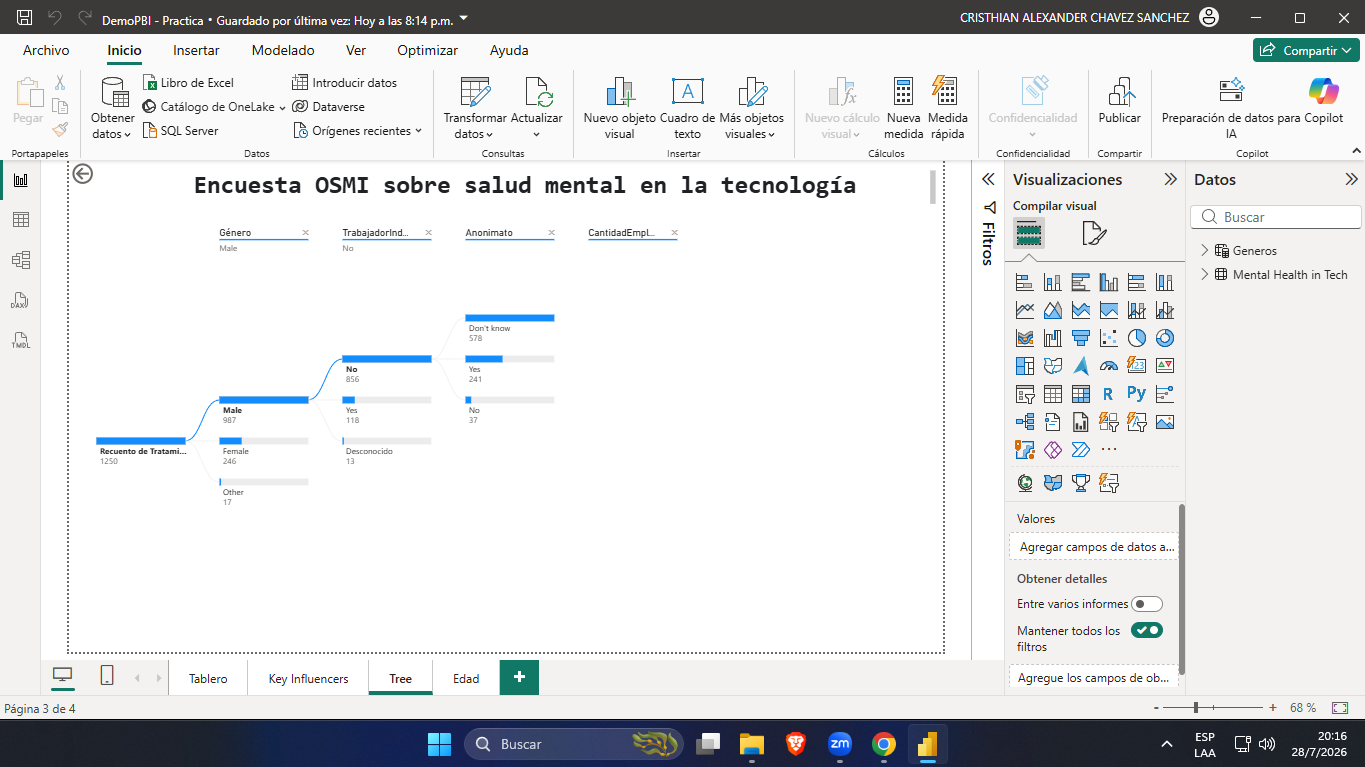

What the dashboard file says about the page in this screenshot:
{"tool":"powerbi","page":{"name":"Tree","canvas":[1280,720],"ordinal":2},"visuals":[{"type":"decompositionTreeVisual","fields":{"Analyze":["CountNonNull(Mental Health in Tech.Tratamiento)"],"ExplainBy":["Mental Health in Tech.Género","Mental Health in Tech.TrabajadorIndependiente","Mental Health in Tech.Anonimato","Mental Health in Tech.CantidadEmpleados","Mental Health in Tech.BeneficiosSaludMental","Mental Health in Tech.BusquedaAyuda","Mental Health in Tech.CompanerosTrabajo","Mental Health in Tech.ConsecuenciaObservada","Mental Health in Tech.ConsecuenciaSaludFisica","Mental Health in Tech.ConsecuenciaSaludMental","Mental Health in Tech.EmpresaTecnologica","Mental Health in Tech.Edad"]},"box":[9.6,81,1270.7,639.5],"z":0},{"type":"actionButton","box":[0,0,100,40],"z":1000},{"type":"textbox","box":[70,10,1202.9,64.3],"z":2000}]}

Visuals, with their boxes on the page's 1280x720 design canvas (x1, y1, x2, y2). These are canvas units, not pixel positions in the 1365x767 screenshot, which may show the page scaled, cropped or inside an application window:
decompositionTreeVisual - CountNonNull(Mental Health in Tech.Tratamiento) x Mental Health in Tech.Género: (10, 81, 1280, 720)
actionButton: (0, 0, 100, 40)
textbox: (70, 10, 1273, 74)
